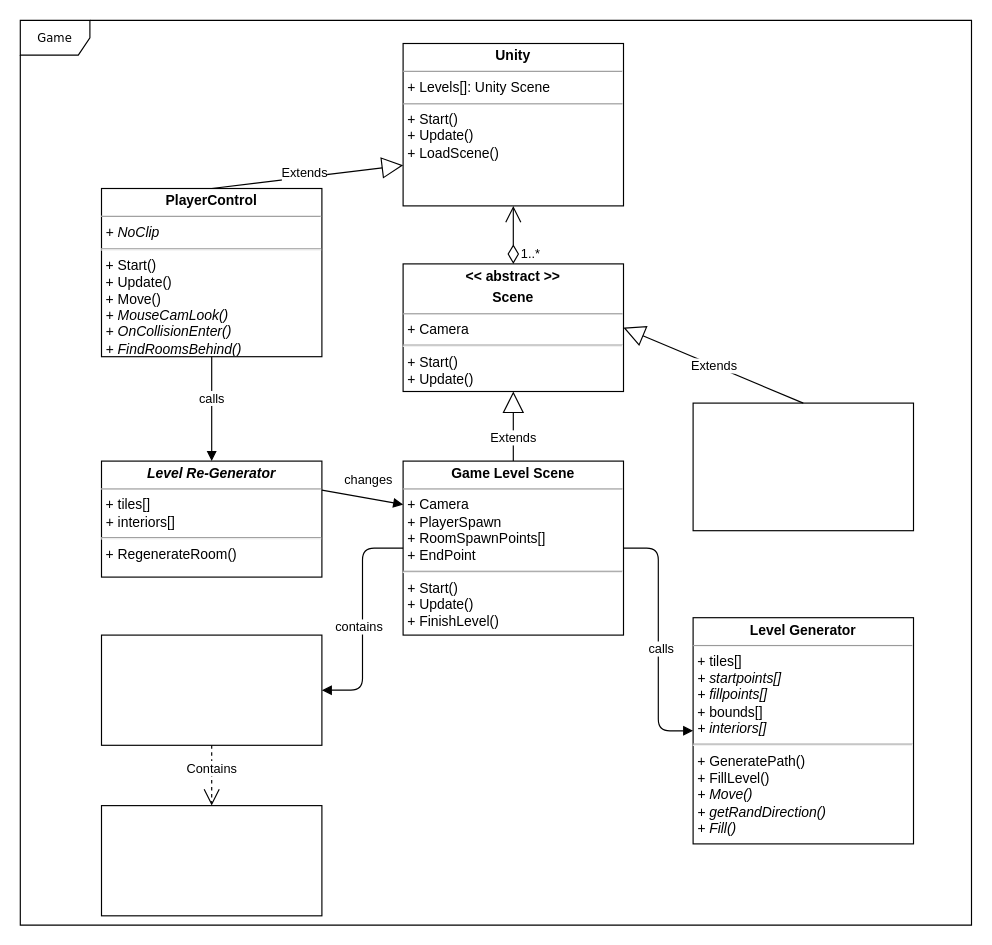
Some shapes in this 992 by 945 pixel diagram are drawn without their labels. The box of each missing label's shape, as (x1, y1, x2, y2) in pixels:
RoomAdder + tiles[] + interiors[] + CheckAndFill(): (100, 804, 322, 916)
RoomSpawnPoint + Position + RoomType + Instantiate(): (100, 634, 322, 745)
Start/End Scene + Camera + UIElements + Start() + Update(): (692, 402, 913, 531)
